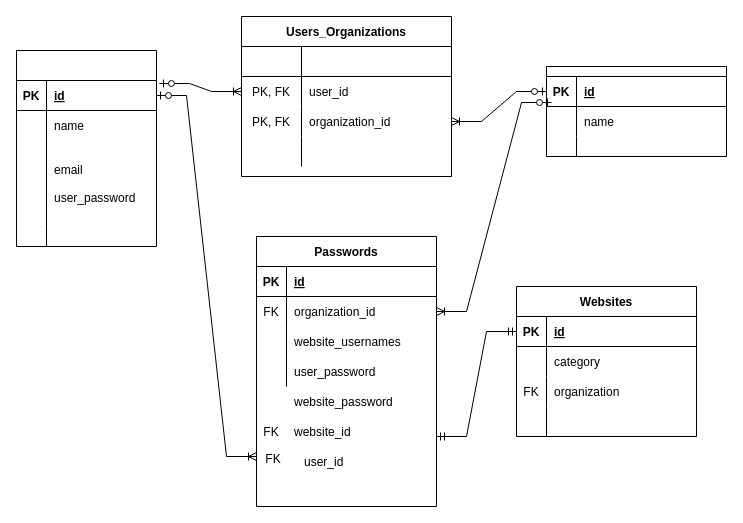
This 743x523 diagram has some shape labels left out. Each missing label, with the box of its shape:
Organizations: (546, 66, 726, 156)
Users: (16, 50, 156, 246)
